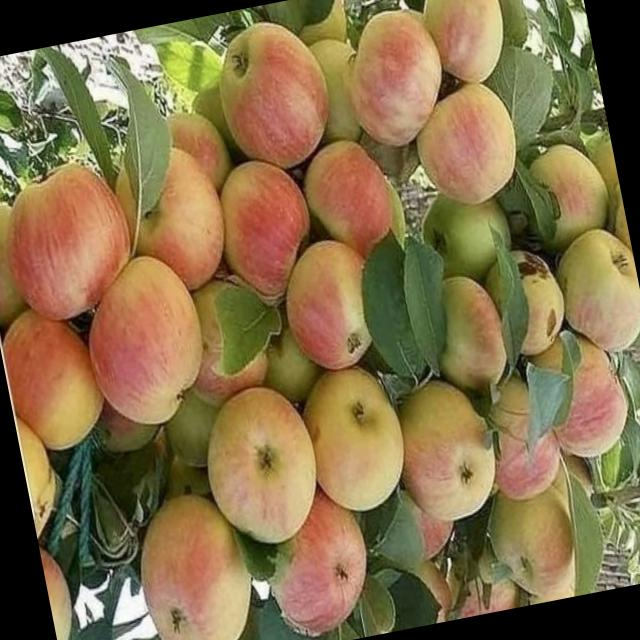Tao: (185, 367, 326, 550), (128, 483, 275, 640), (74, 258, 204, 432), (0, 162, 132, 324), (290, 349, 412, 516), (0, 285, 117, 453), (253, 488, 375, 640), (204, 17, 328, 163), (392, 368, 500, 529), (333, 5, 453, 146), (161, 257, 268, 415), (410, 78, 521, 230), (292, 123, 404, 273), (212, 152, 322, 302), (477, 474, 591, 611), (272, 236, 375, 384), (412, 277, 518, 420), (544, 222, 640, 362), (518, 136, 618, 268), (529, 325, 628, 458), (413, 179, 520, 300), (474, 240, 572, 372), (118, 152, 222, 272), (290, 28, 380, 166), (414, 0, 512, 115), (138, 91, 228, 214), (479, 387, 569, 501), (377, 489, 467, 571), (0, 164, 35, 340), (17, 430, 70, 534)
